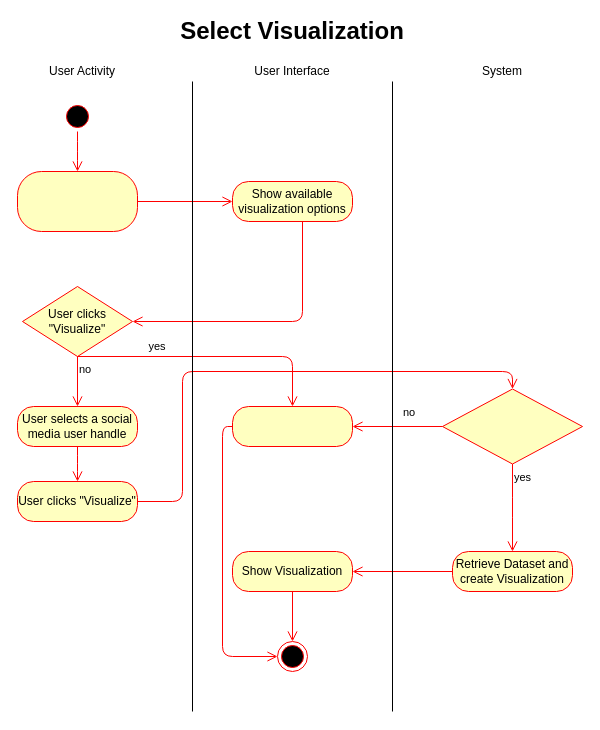
Image size: 600x730. Some labels were removed from this diagram. Each missing label, with the box of its shape:
Dataset exists and user owns it: (442, 388, 582, 464)
ERROR: No social media user selected: (232, 406, 352, 446)
User clicks on the visualization type selection menu: (16, 170, 138, 232)
